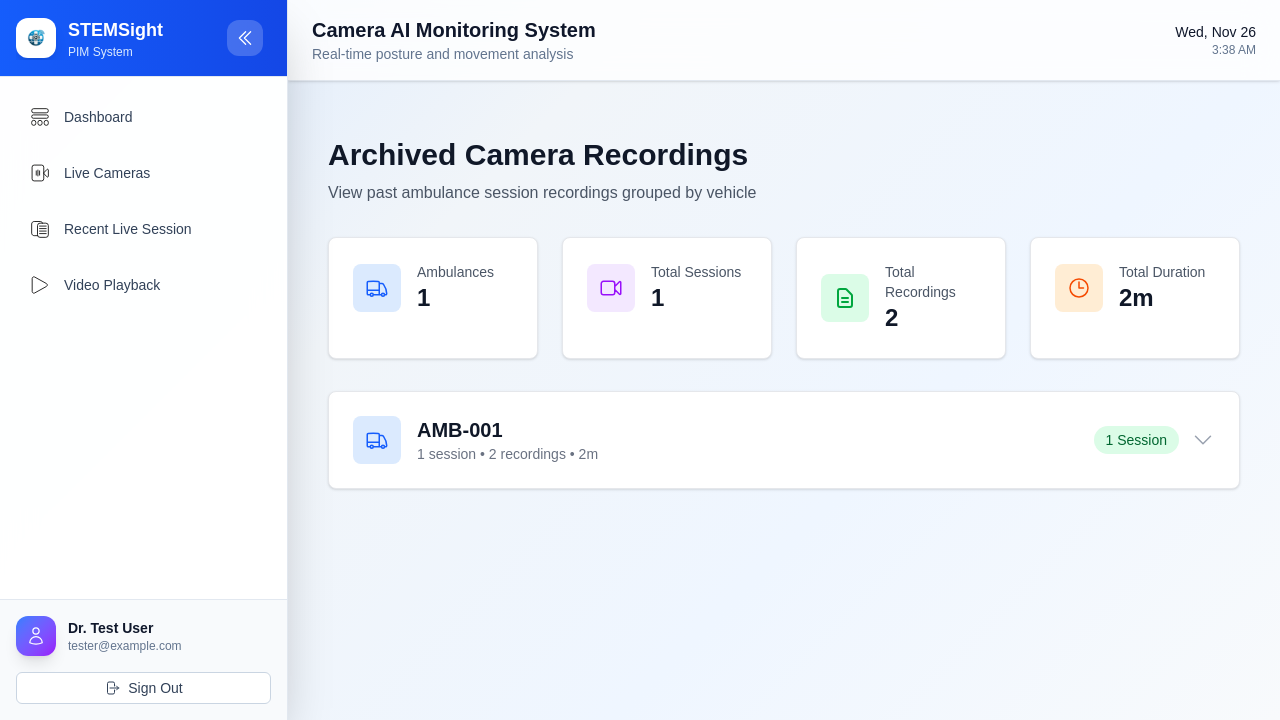
Scenario: VideoPlaybackPage › renders sessions grouped by ambulance and allows expand
expect the heading "Archived Camera Recordings" is shown: met, box [328,138,748,171]
expect the text "Total Recordings" is shown: met, box [885,264,956,300]
Click the heading "AMB-001" at (460, 430), box [417,419,503,441]
(page scrolled)
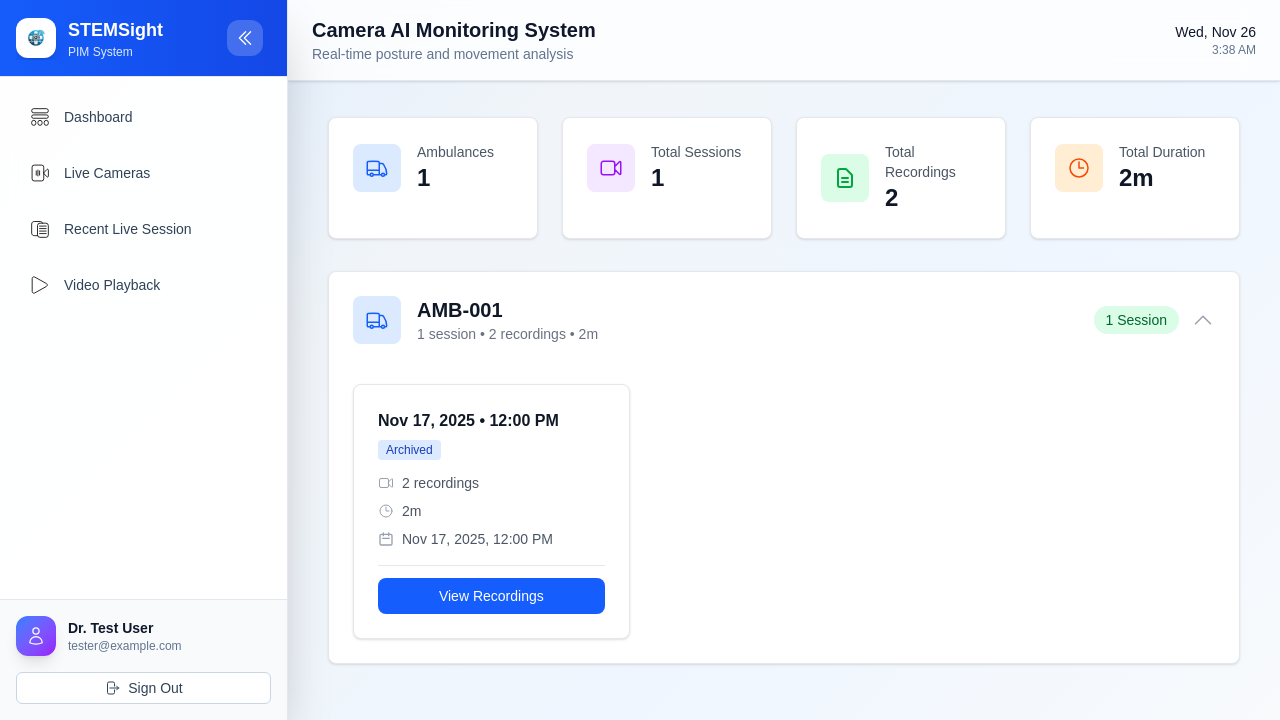
expect the button "View Recordings" is shown: met, box [378,578,605,614]
